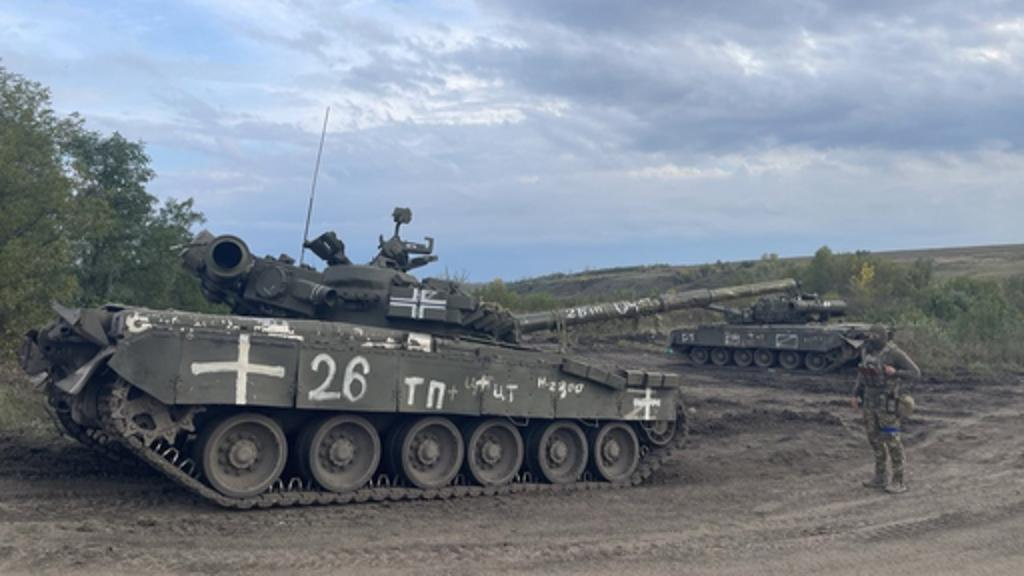TANK: (34, 208, 798, 522), (662, 280, 896, 374)
